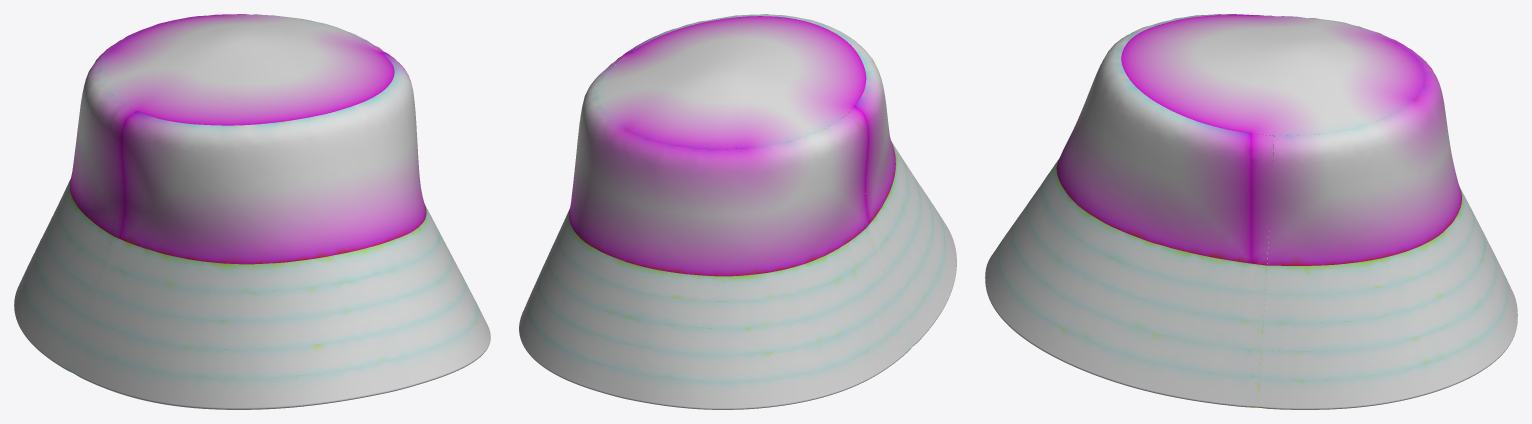
Rendered from buckethat.glb.
3 renders of one model, left to right at view 1: azimuth 30°, elevation 25°; view 2: azimuth 150°, elevation 25°; view 3: azimuth 270°, elevation 25°, orthographic. The views are drawn at different scales.
Visible parts, largest first — view 1: brim, front, back; view 2: back, brim, front; view 3: brim, back, front.
Part boxes in pixels (bbox=[...]): brim: bbox=[14, 179, 490, 409]; front: bbox=[120, 53, 426, 264]; back: bbox=[70, 14, 394, 287]; back: bbox=[569, 16, 883, 276]; brim: bbox=[519, 113, 956, 409]; front: bbox=[623, 14, 895, 223]; brim: bbox=[985, 144, 1517, 409]; back: bbox=[1121, 15, 1461, 396]; front: bbox=[1056, 14, 1273, 263].
Bounding box in the file's own units: 0.2259 × 0.16 × 0.2829.
